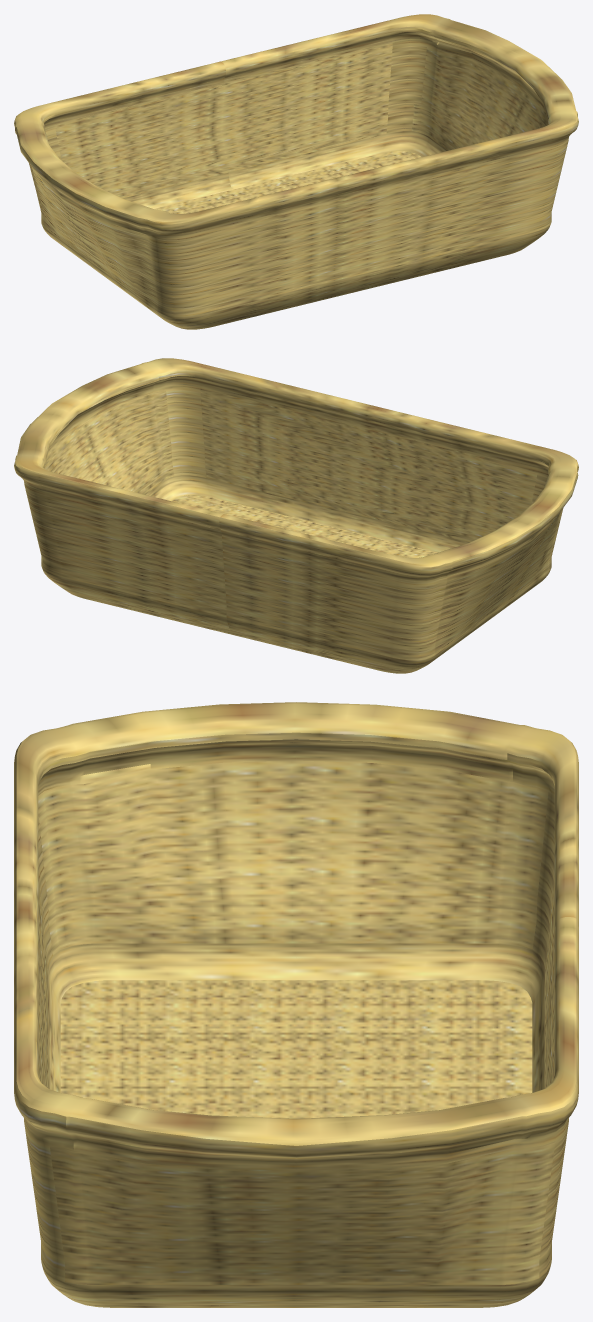
File: Basket.fbx
3 views of the same model, one above another, from view 1: azimuth 30°, elevation 25°; view 2: azimuth 150°, elevation 25°; view 3: azimuth 270°, elevation 25° (orthographic). The views are drawn at different scales.
Visible parts, largest first — view 1: Basket; view 2: Basket; view 3: Basket.
Boxes of the visible parts, left/top/right/bottom form: Basket: left=14, top=14, right=578, bottom=329; Basket: left=14, top=358, right=578, bottom=673; Basket: left=14, top=702, right=578, bottom=1307.
Bounding box in the file's own units: 532 × 132 × 290.
